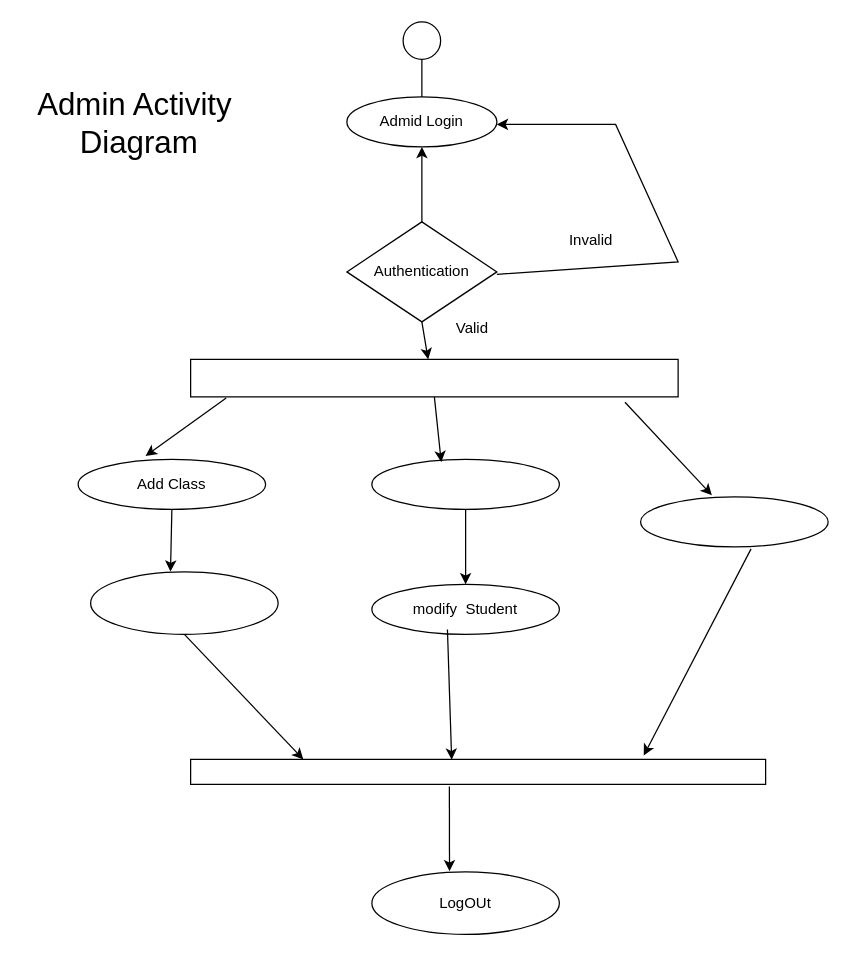
This 850x956 diagram has some shape labels left out. Here are the shapes that lost their labels. From the top down, the centre of each, then its label:
[465,483]: Add Student
[733,521]: view Report
[183,602]: Modify Class
